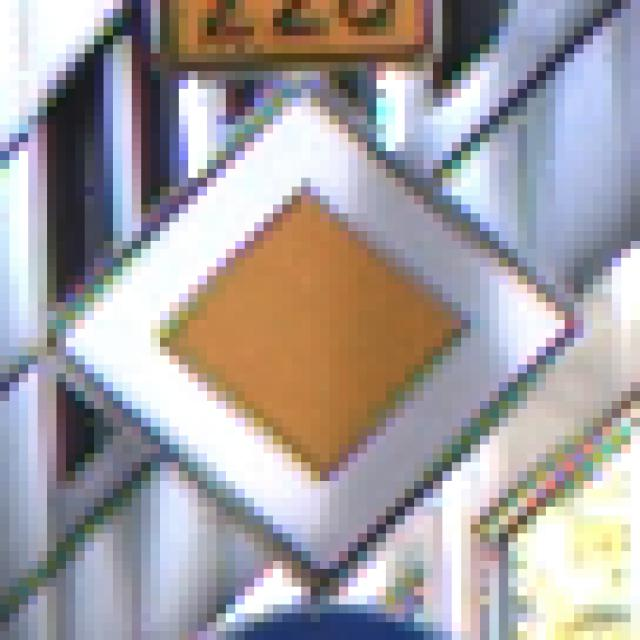Main Road: (58, 54, 575, 579)
